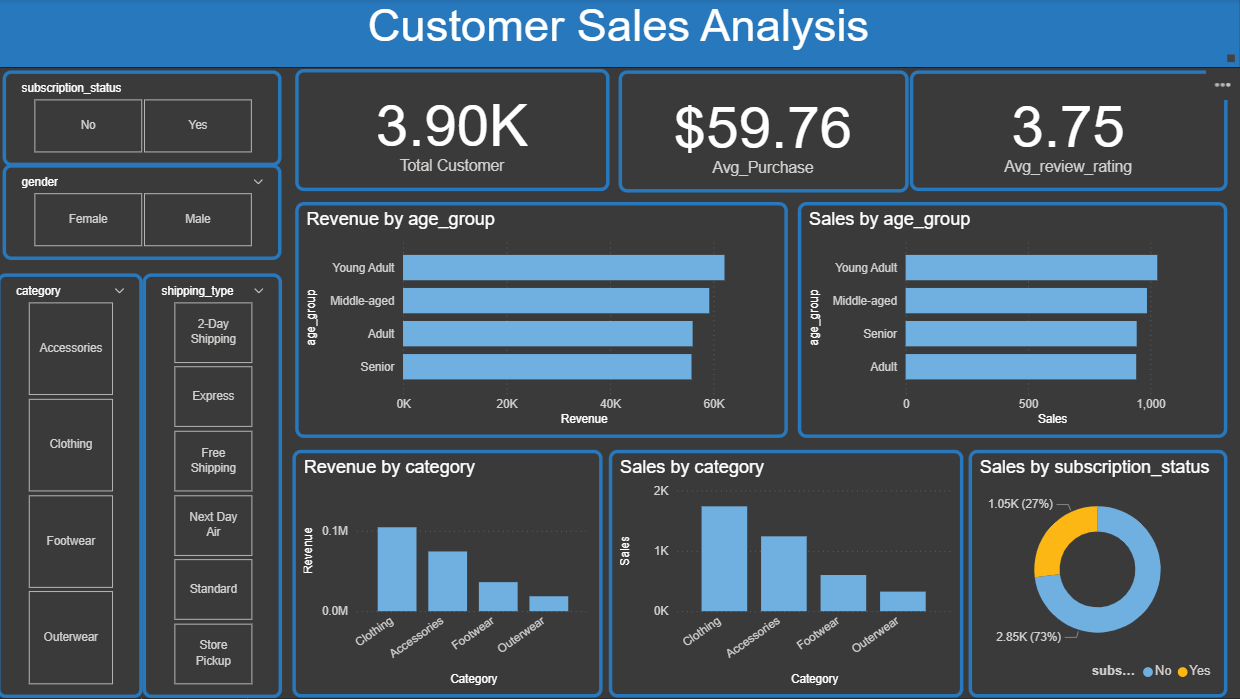

What the dashboard file says about the page in this screenshot:
{"tool":"powerbi","page":{"name":"Page 1","canvas":[1280,720],"ordinal":0},"visuals":[{"type":"card","fields":{"Values":["customer.Total Customer"]},"box":[306.3,71.8,323.9,126],"z":1000},{"type":"card","fields":{"Values":["customer.Avg_Purchase"]},"box":[639.8,73.4,298.3,126],"z":2000},{"type":"card","fields":{"Values":["customer.Avg_review_rating"]},"box":[939.7,73.4,327.1,124.4],"z":3000},{"type":"donutChart","title":"Sales by subscription_status","fields":{"Category":["customer.subscription_status"],"Y":["CountNonNull(customer.customer_id)"]},"box":[1000.3,464.3,266.4,255.3],"z":4000},{"type":"clusteredColumnChart","title":"Revenue by category","fields":{"Category":["customer.category"],"Y":["Sum(customer.purchase_amount)"]},"box":[304.7,464.3,319.1,255.3],"z":5000},{"type":"clusteredColumnChart","title":"Sales by category","fields":{"Category":["customer.category"],"Y":["CountNonNull(customer.customer_id)"]},"box":[630.2,464.3,365.4,255.3],"z":6000},{"type":"slicer","fields":{"Values":["customer.subscription_status"]},"box":[6.4,73.4,287.2,98.9],"z":7000},{"type":"slicer","fields":{"Values":["customer.gender"]},"box":[6.4,170.7,287.2,98.9],"z":8000},{"type":"slicer","fields":{"Values":["customer.category"]},"box":[0,282.4,150,437.1],"z":9000},{"type":"slicer","fields":{"Values":["customer.shipping_type"]},"box":[150,282.4,143.6,437.1],"z":10000},{"type":"barChart","title":"Revenue by age_group","fields":{"Category":["customer.age_group"],"Y":["Sum(customer.purchase_amount)"]},"box":[306.3,209,507.3,242.5],"z":11000},{"type":"barChart","title":"Sales by age_group","fields":{"Category":["customer.age_group"],"Y":["CountNonNull(customer.customer_id)"]},"box":[824.8,209,441.9,242.5],"z":12000},{"type":"textbox","title":"Customer Sales Analysis","box":[0,0,1279.5,70.2],"z":13000}]}

Visuals, with their boxes in screenshot pixels (x1, y1, x2, y2), scaled from the page's 1280x720 canvas onto the 1240x699 screenshot:
card - customer.Total Customer: (297, 70, 611, 192)
card - customer.Avg_Purchase: (620, 71, 909, 194)
card - customer.Avg_review_rating: (910, 71, 1227, 192)
"Sales by subscription_status" donutChart: (969, 451, 1227, 698)
"Revenue by category" clusteredColumnChart: (295, 451, 604, 698)
"Sales by category" clusteredColumnChart: (611, 451, 964, 698)
slicer - customer.subscription_status: (6, 71, 284, 167)
slicer - customer.gender: (6, 166, 284, 262)
slicer - customer.category: (0, 274, 145, 698)
slicer - customer.shipping_type: (145, 274, 284, 698)
"Revenue by age_group" barChart: (297, 203, 788, 438)
"Sales by age_group" barChart: (799, 203, 1227, 438)
"Customer Sales Analysis" textbox: (0, 0, 1239, 68)
